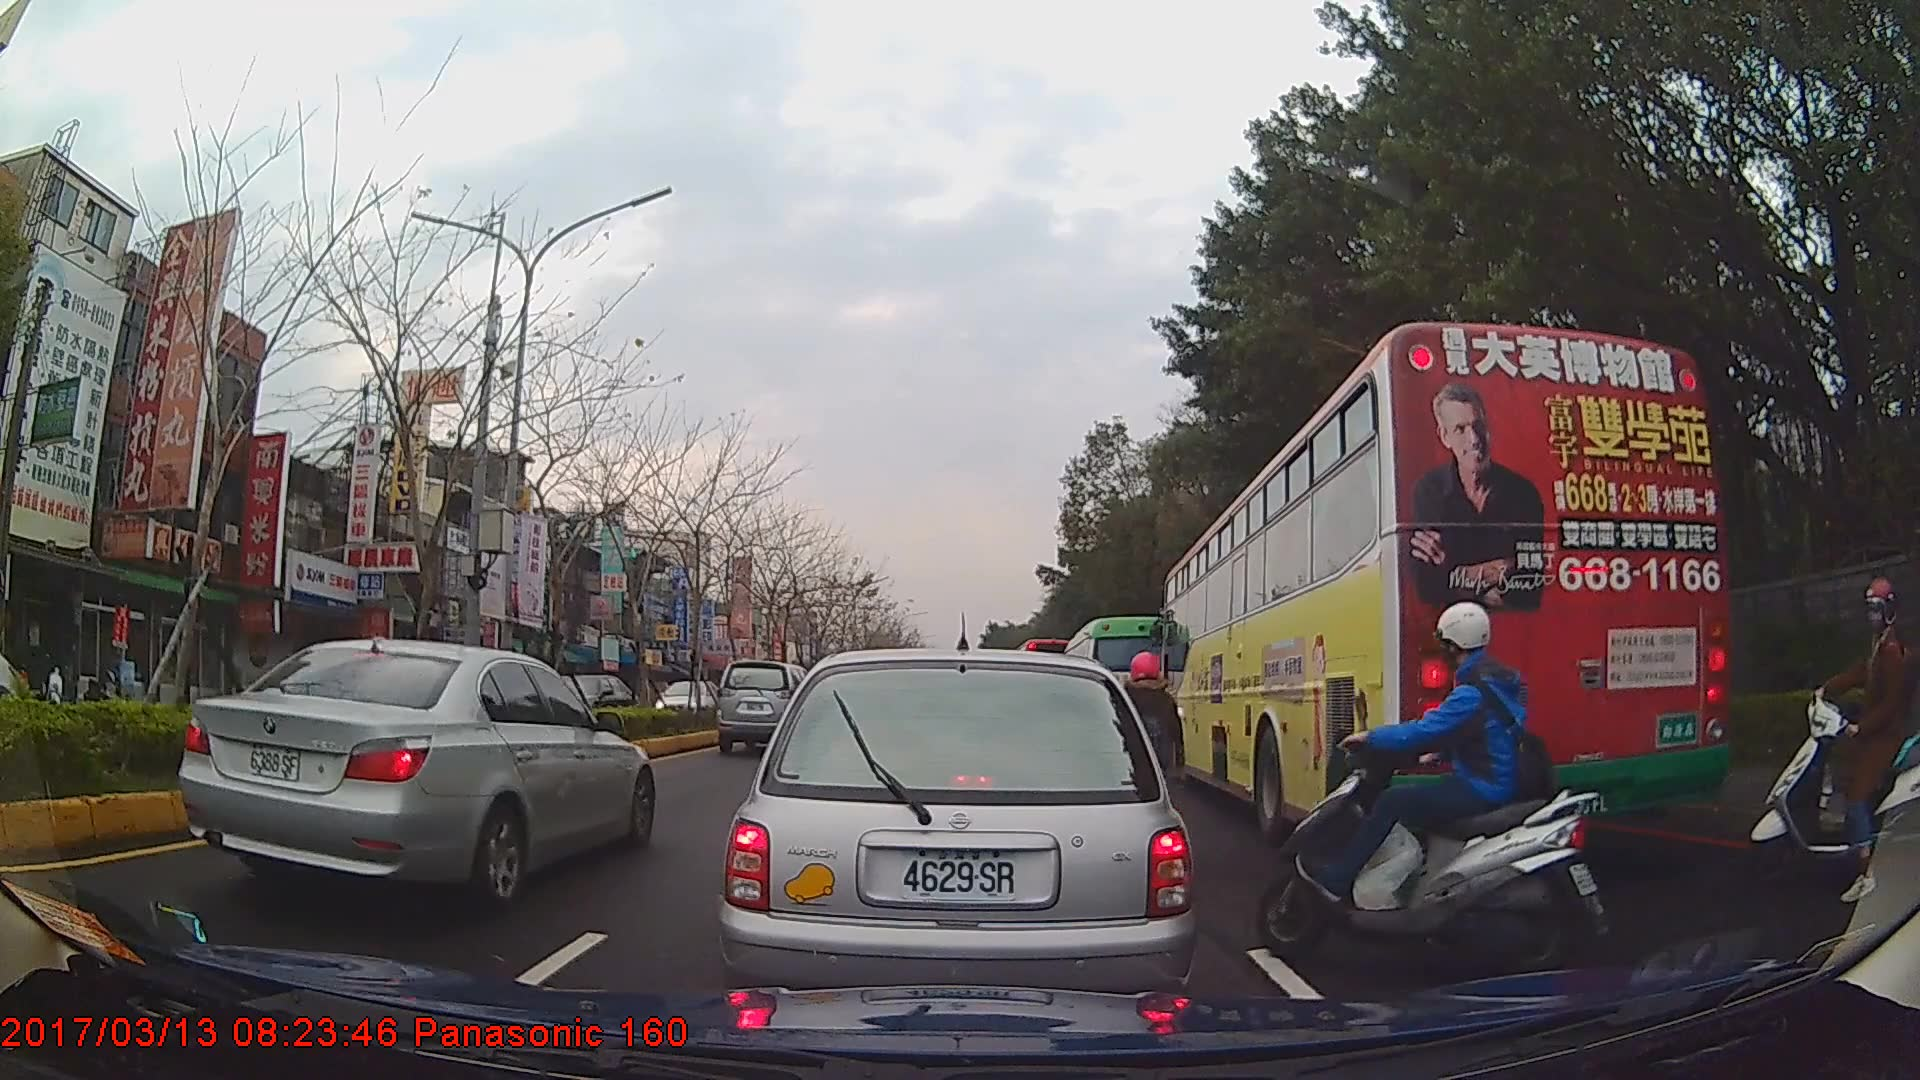rider: (1255, 607, 1608, 975), (1753, 572, 1917, 896), (1109, 648, 1187, 841)
vehicle: (1160, 320, 1727, 854), (716, 646, 1195, 1031), (177, 634, 653, 911), (1060, 615, 1187, 759), (716, 658, 820, 753), (523, 671, 636, 731)
